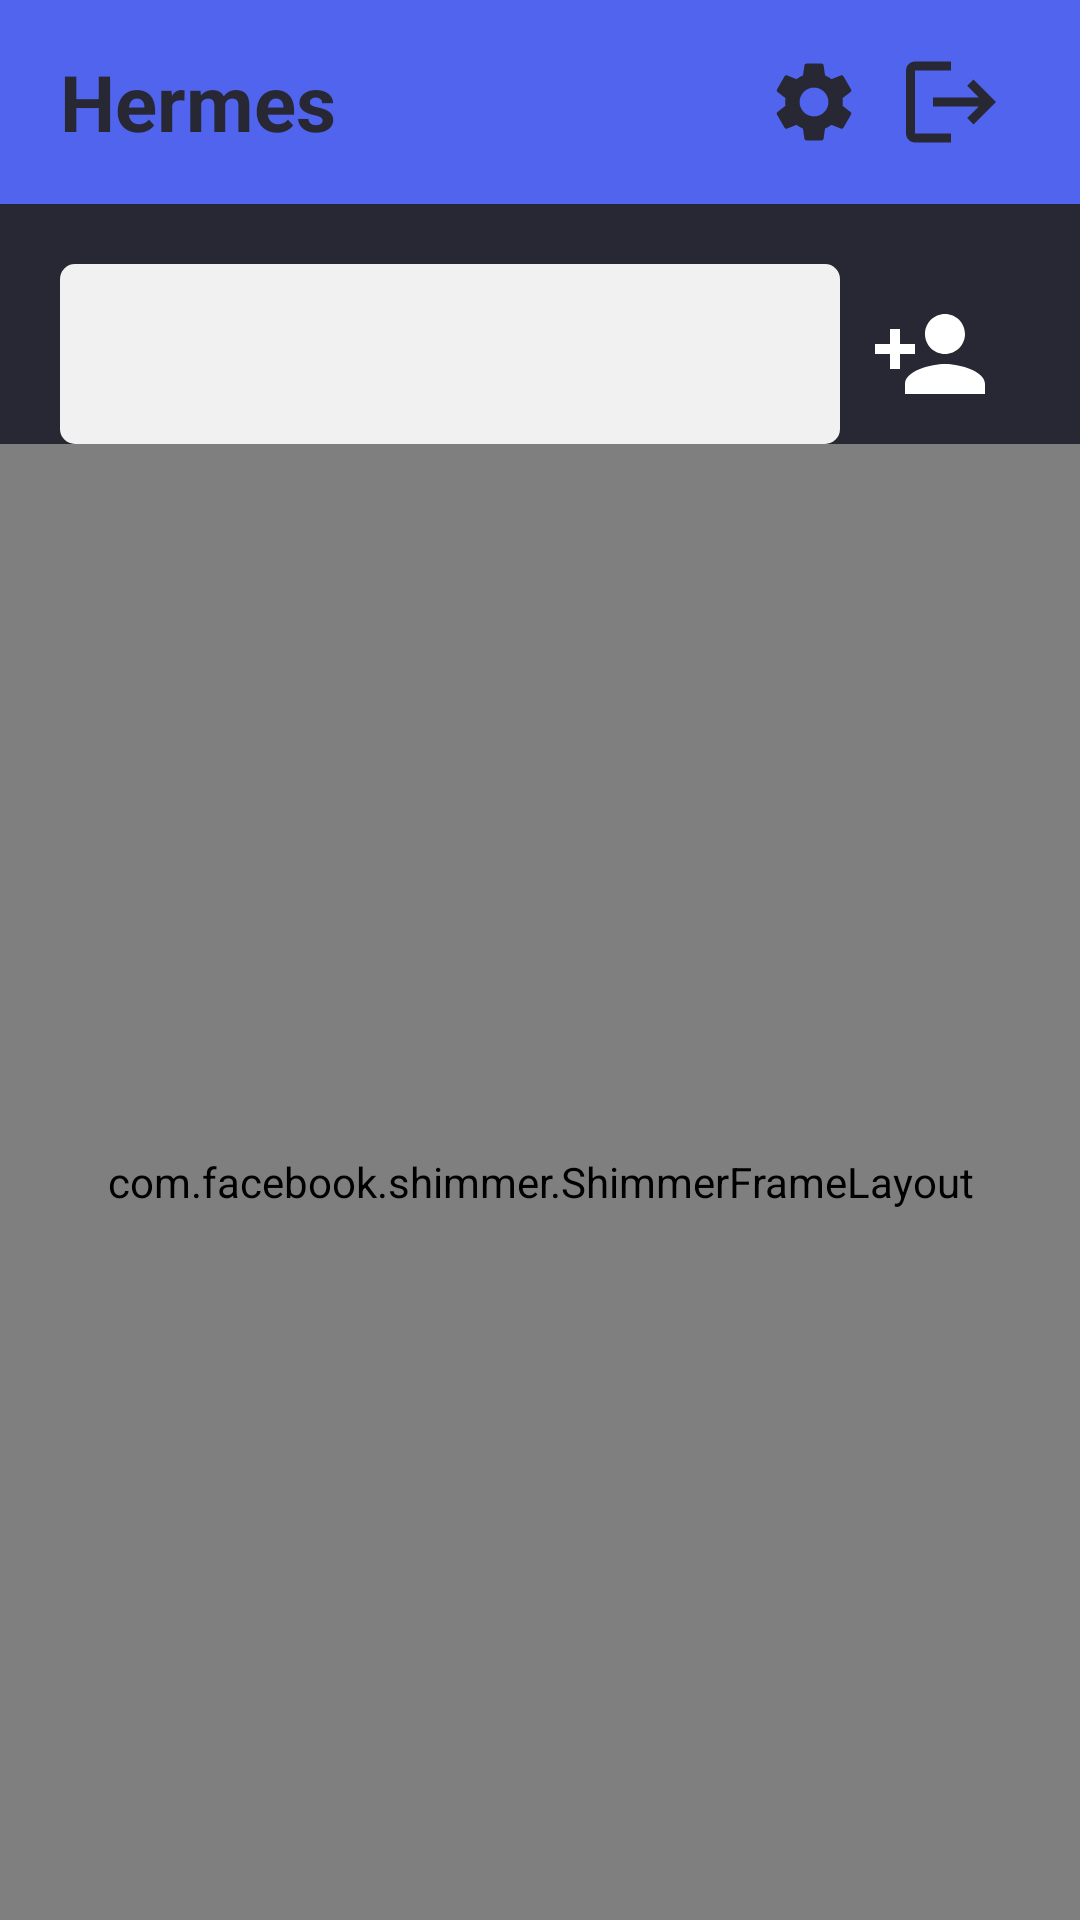

Named icons in this screenshot (1080 x 1920) and their centers, (x=x, y=y):
add contact: (x=930, y=354)
log out: (x=951, y=102)
settings: (x=814, y=102)
